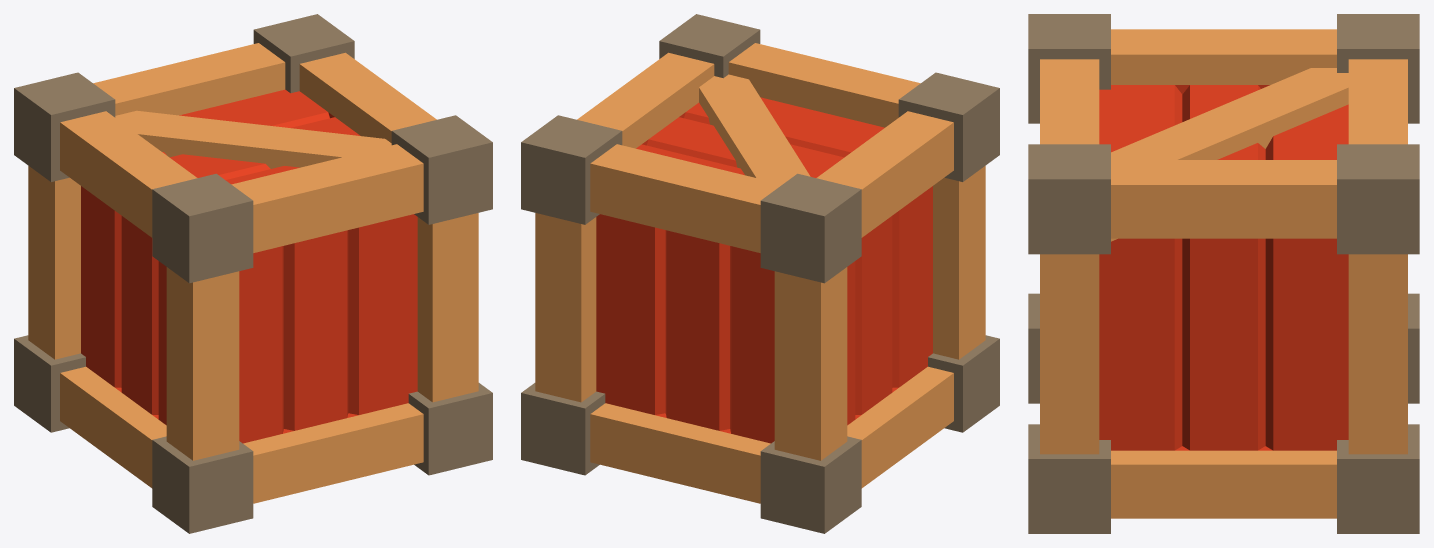
Rendered from 爆炸木箱.glb.
3 views of the same model, side by side, from view 1: azimuth 30°, elevation 25°; view 2: azimuth 150°, elevation 25°; view 3: azimuth 270°, elevation 25° (orthographic). The views are drawn at different scales.
Parts seen in each view (by area): view 1: explosiveCrates.001; view 2: explosiveCrates.001; view 3: explosiveCrates.001.
Part boxes in pixels (left/top/right/bottom): explosiveCrates.001: left=14, top=14, right=492, bottom=533; explosiveCrates.001: left=521, top=14, right=999, bottom=533; explosiveCrates.001: left=1028, top=14, right=1419, bottom=533.
Bounding box in the file's own units: 1.06 × 1.06 × 1.06.
1 material, 1 textured.
